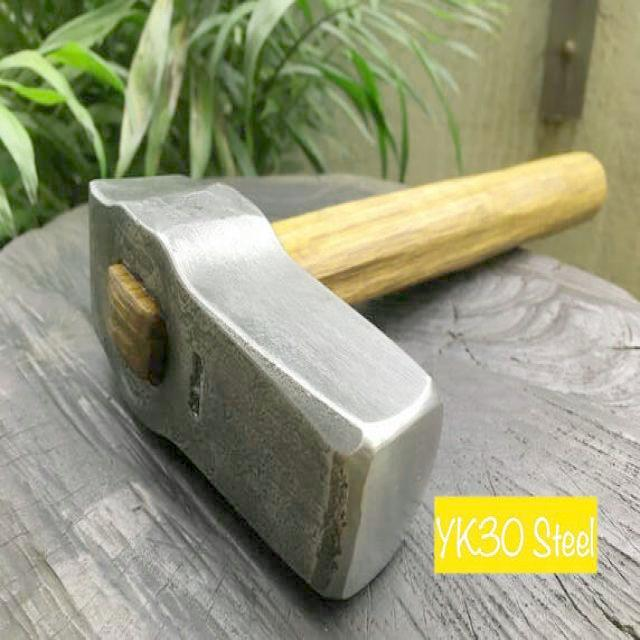hammer: (79, 146, 628, 610)
